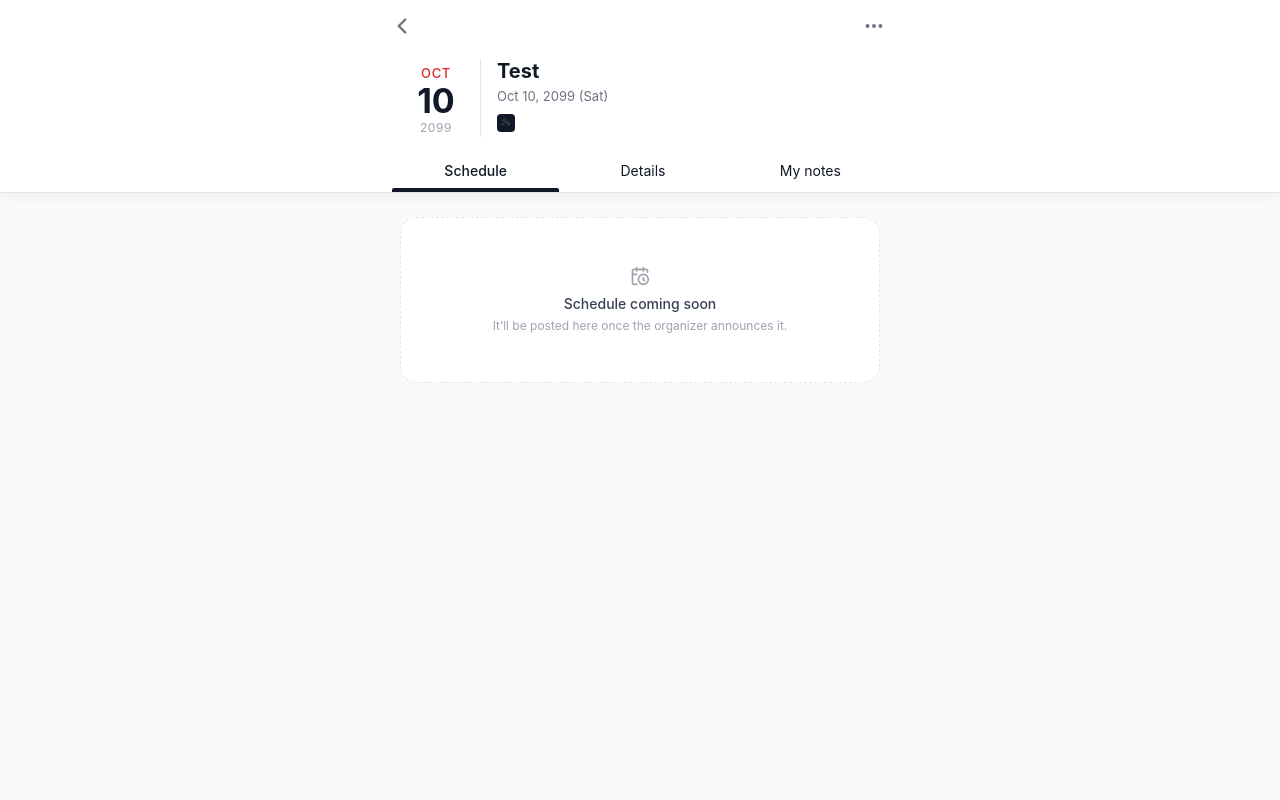
Test: deleting an event from the header menu (#229, #216, #232) › offers non-admins only Share (#273)
Click the button named "More actions" at (874,26), box [856,8,892,44]
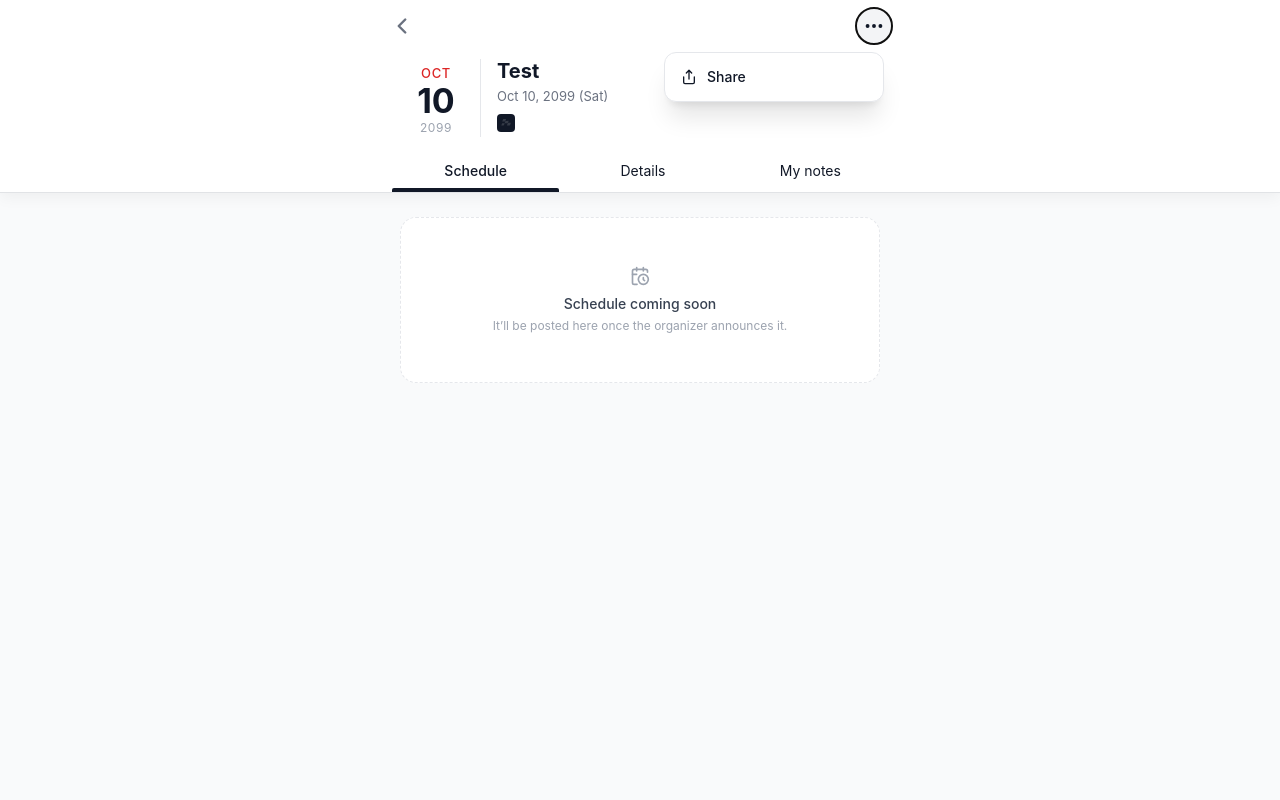
Expected: the menu items read "Share", in this order, [669,57,879,97]
